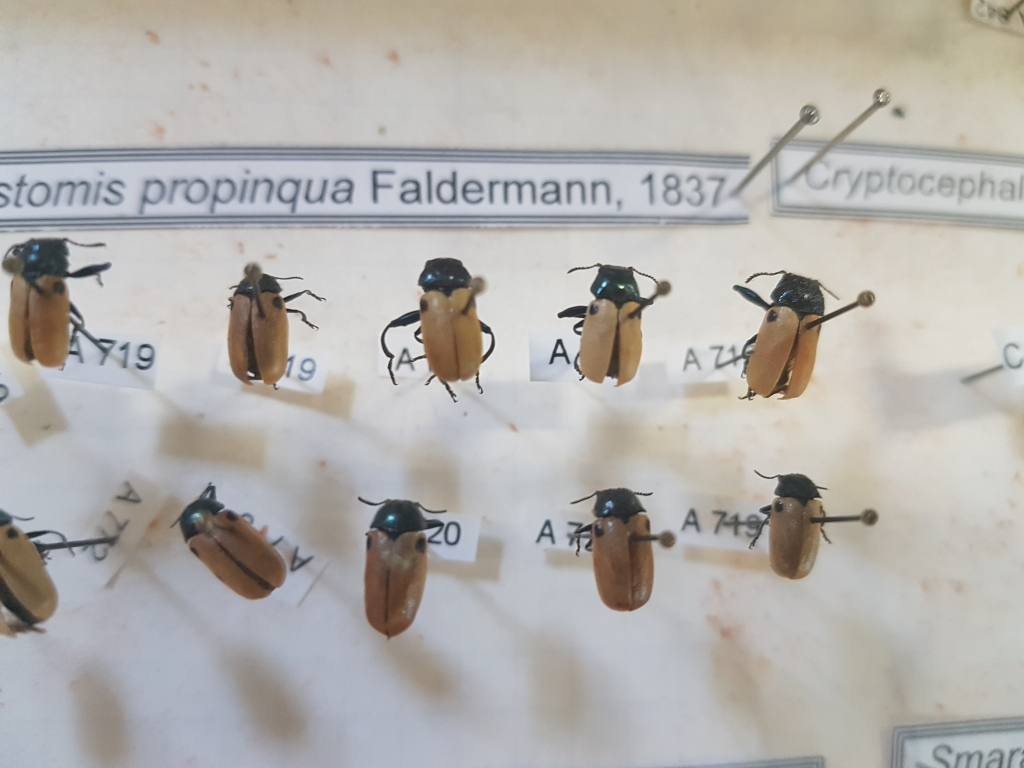Labidostomis_propinqua: (380, 254, 500, 404), (168, 474, 293, 603), (349, 487, 451, 644), (731, 261, 842, 404), (2, 231, 114, 371), (552, 255, 659, 386), (221, 260, 325, 387), (574, 484, 670, 612), (749, 461, 832, 588), (1, 498, 74, 641)
